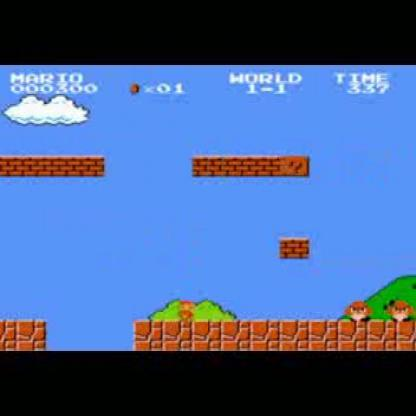Goomba: (346, 298, 375, 322), (390, 298, 414, 324)
Hoyo: (42, 317, 140, 350)
